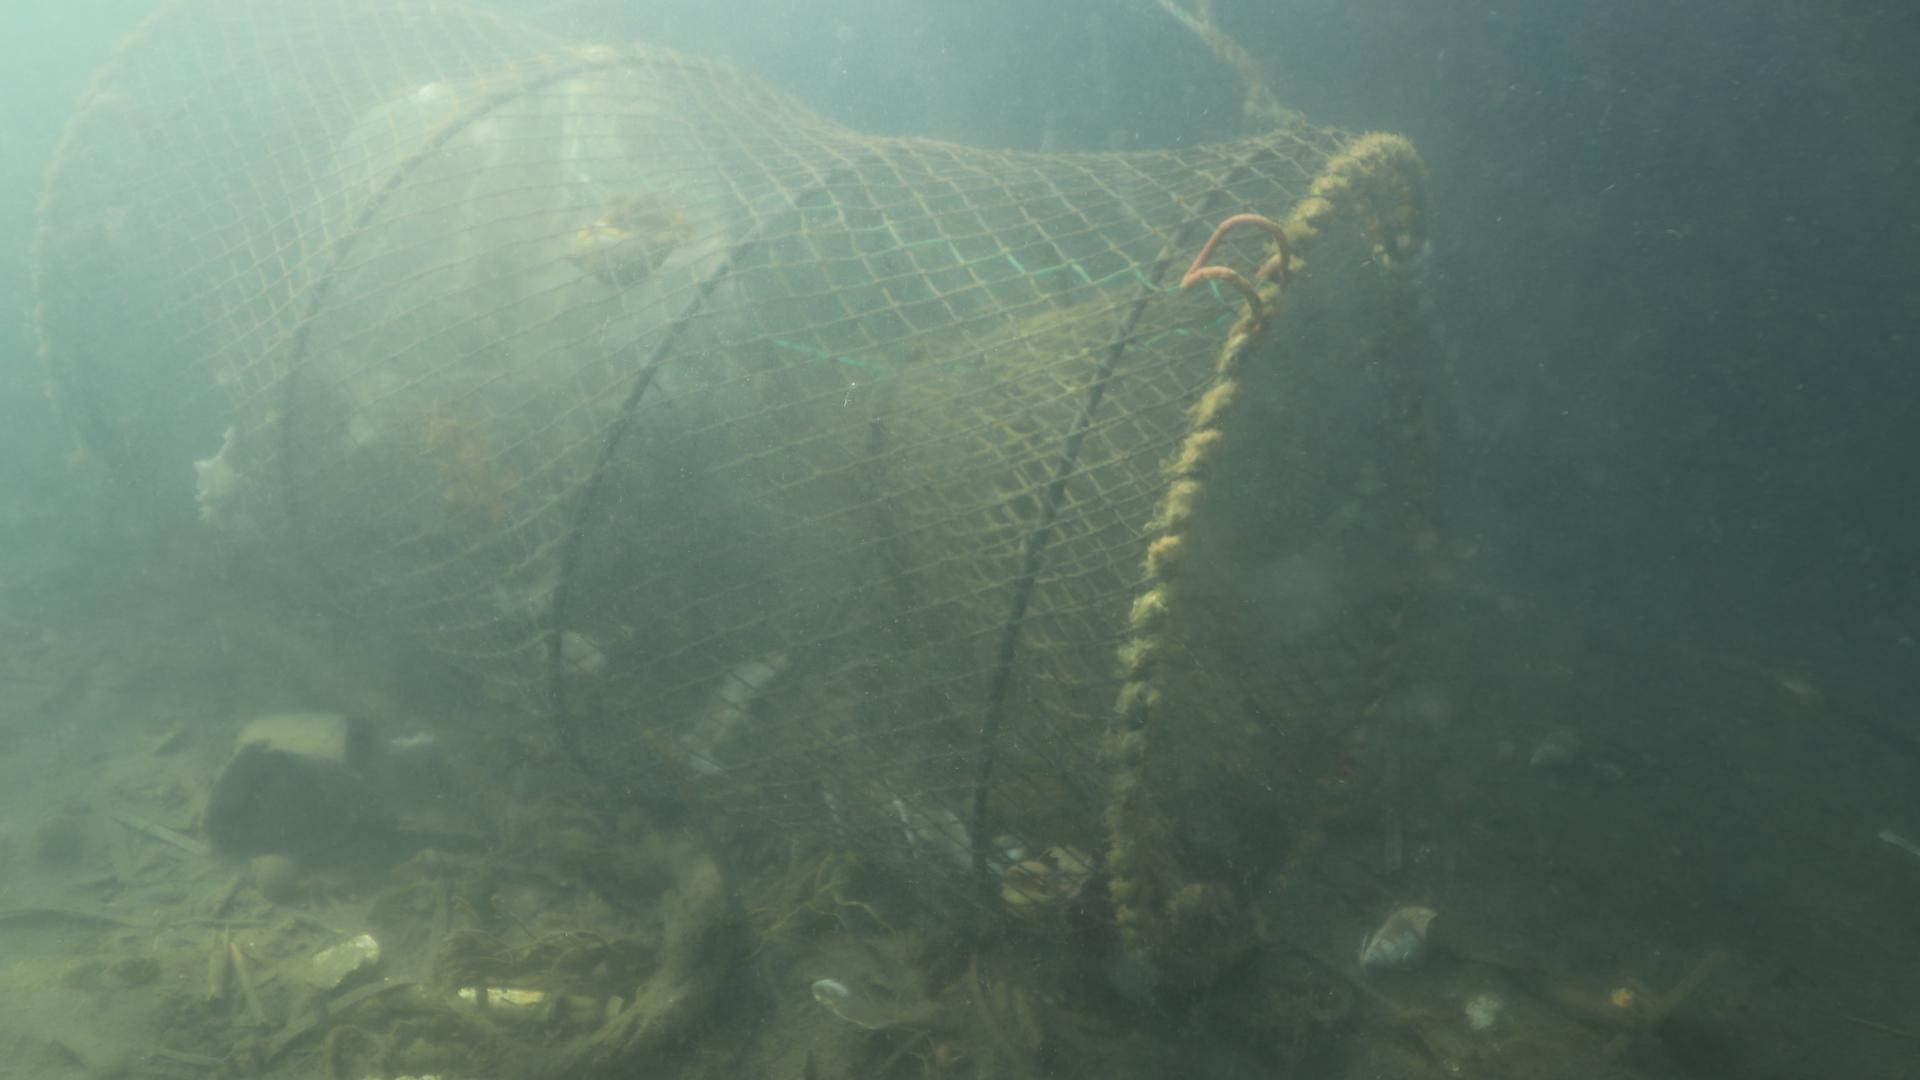spring fish trap: (34, 0, 1425, 1005)
